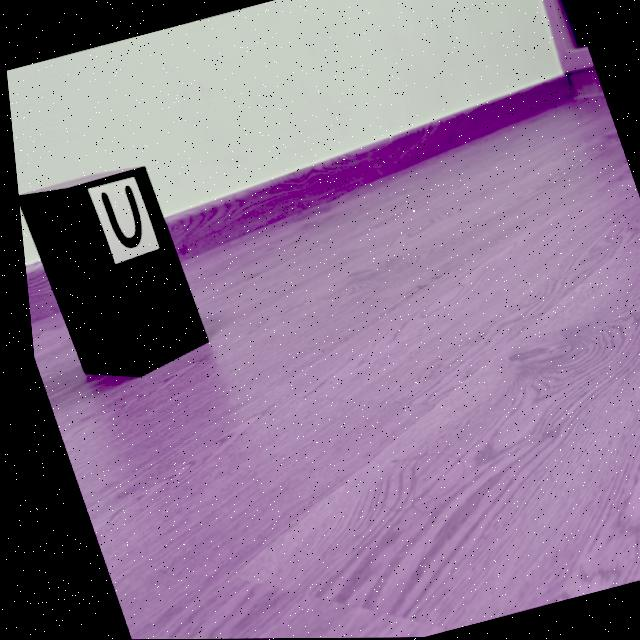U: (96, 185, 137, 248)
